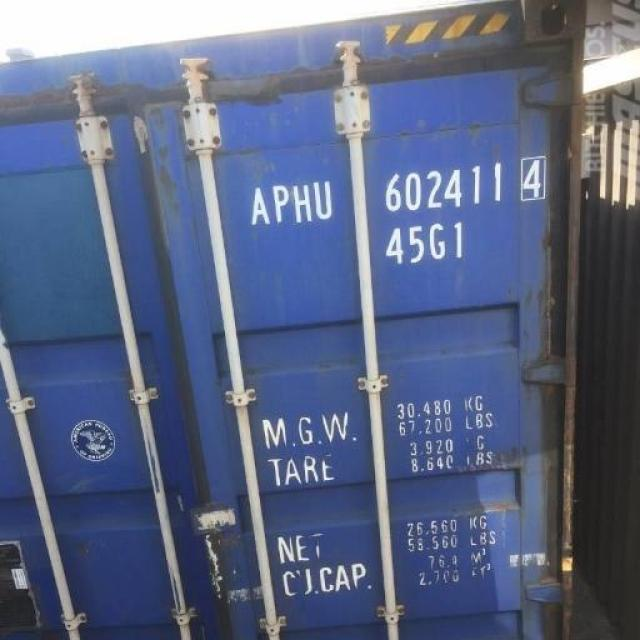ISO: (368, 214, 478, 268)
container_number: (220, 170, 560, 216)
